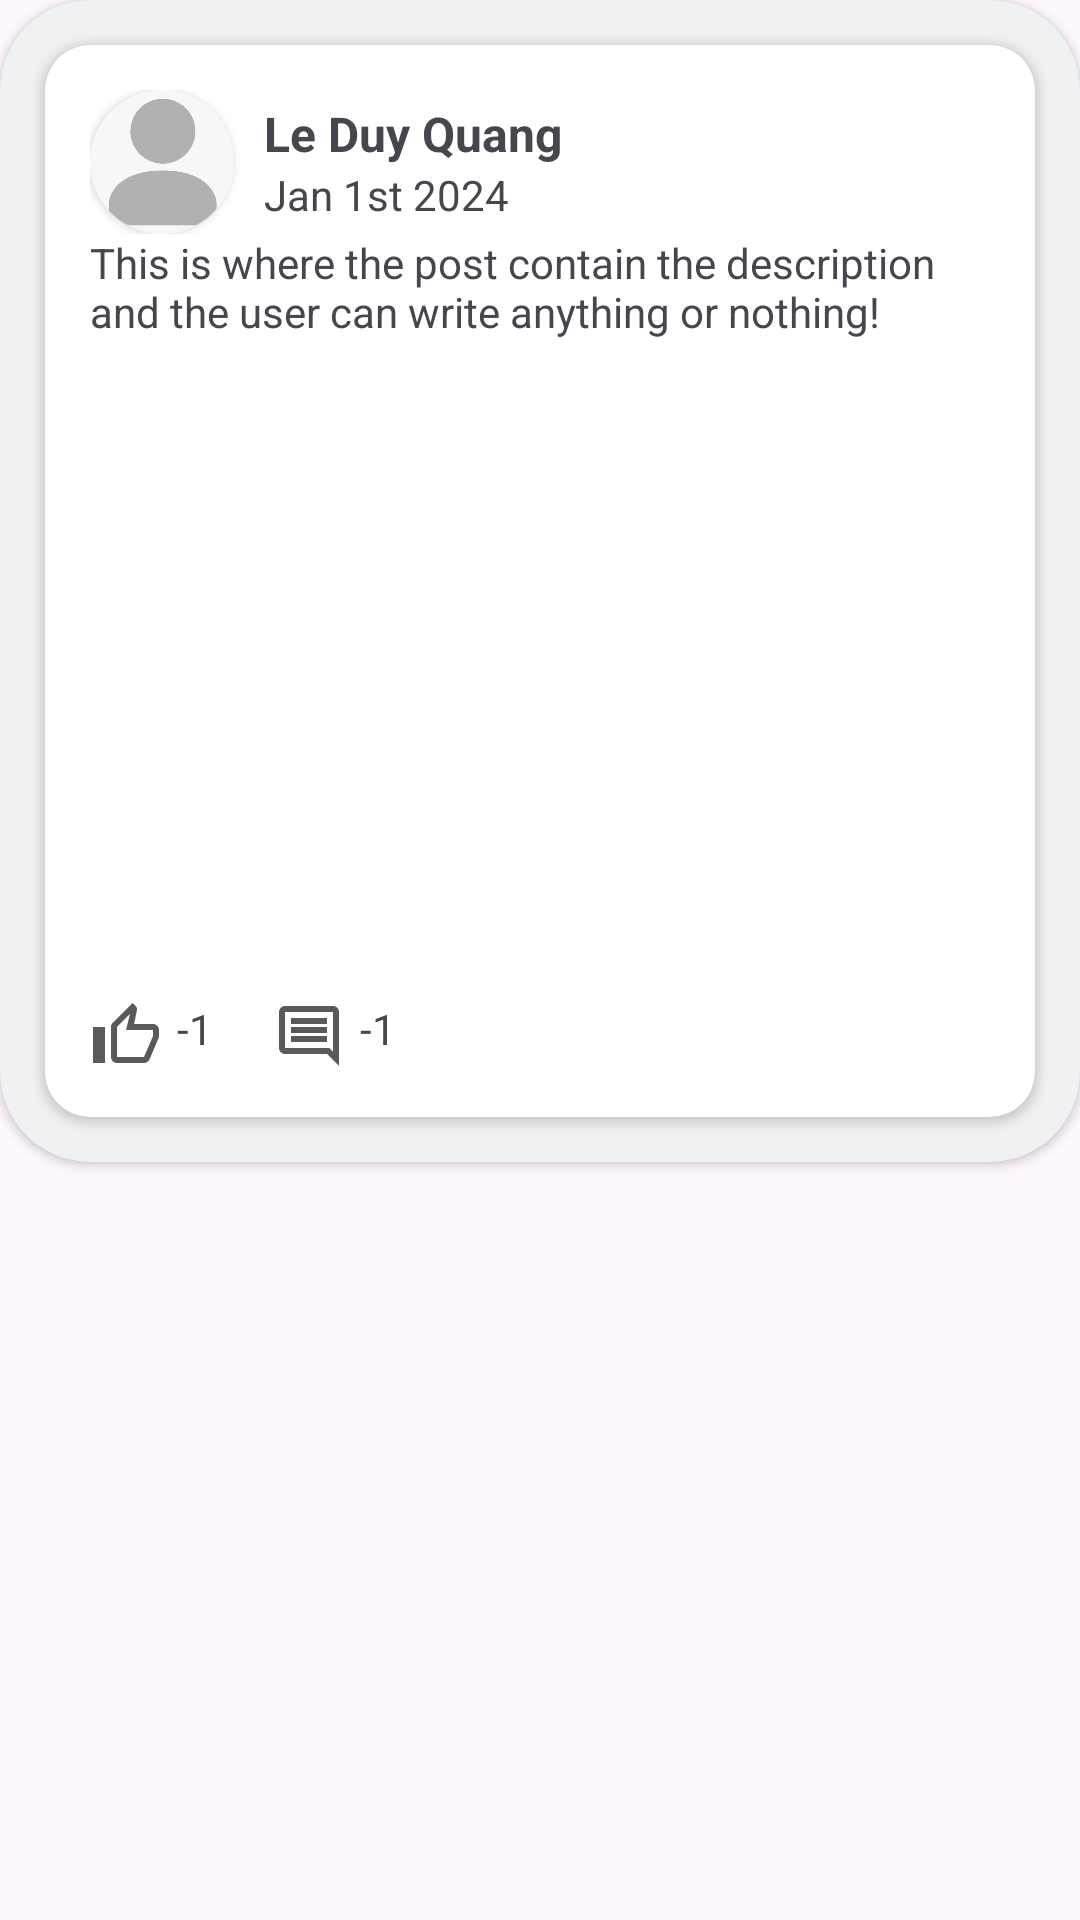

Screen size 1080x1920. Icon name, then its center in pixels as [x,y]:
comment: [309,1036]
thumb up unliked: [126,1033]
